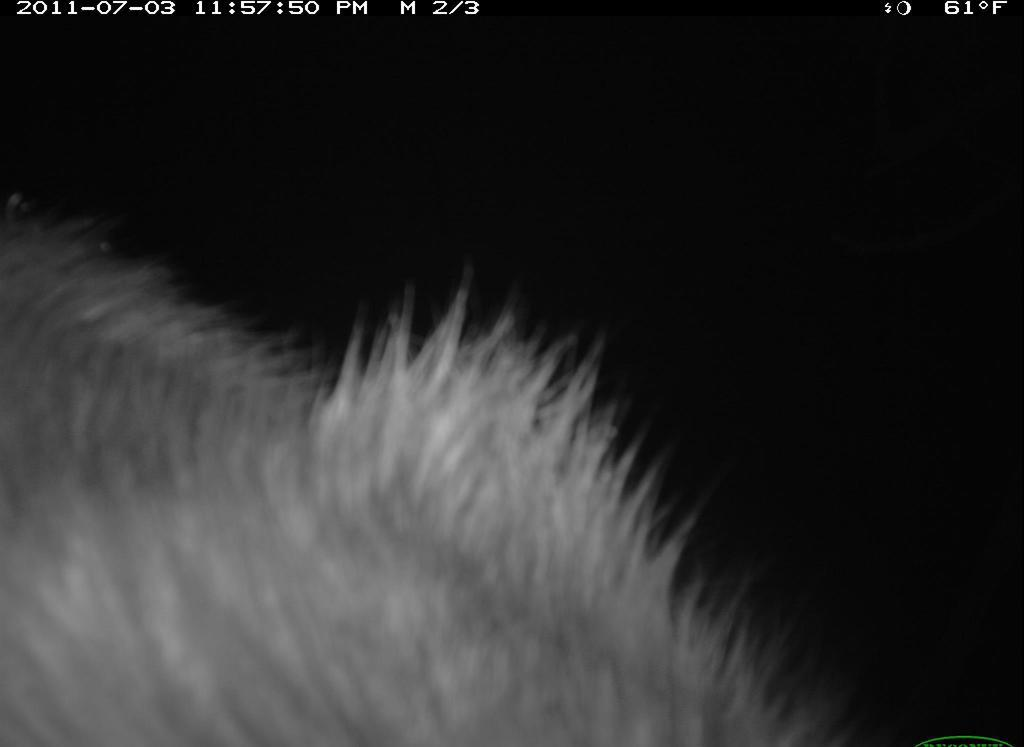raccoon: (3, 164, 843, 747)
